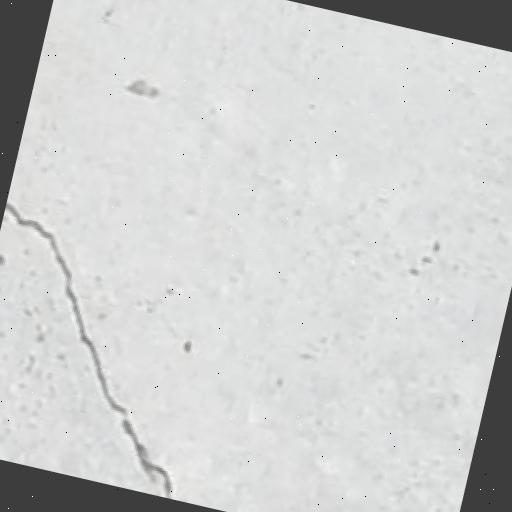spalling: (7, 196, 187, 493)
